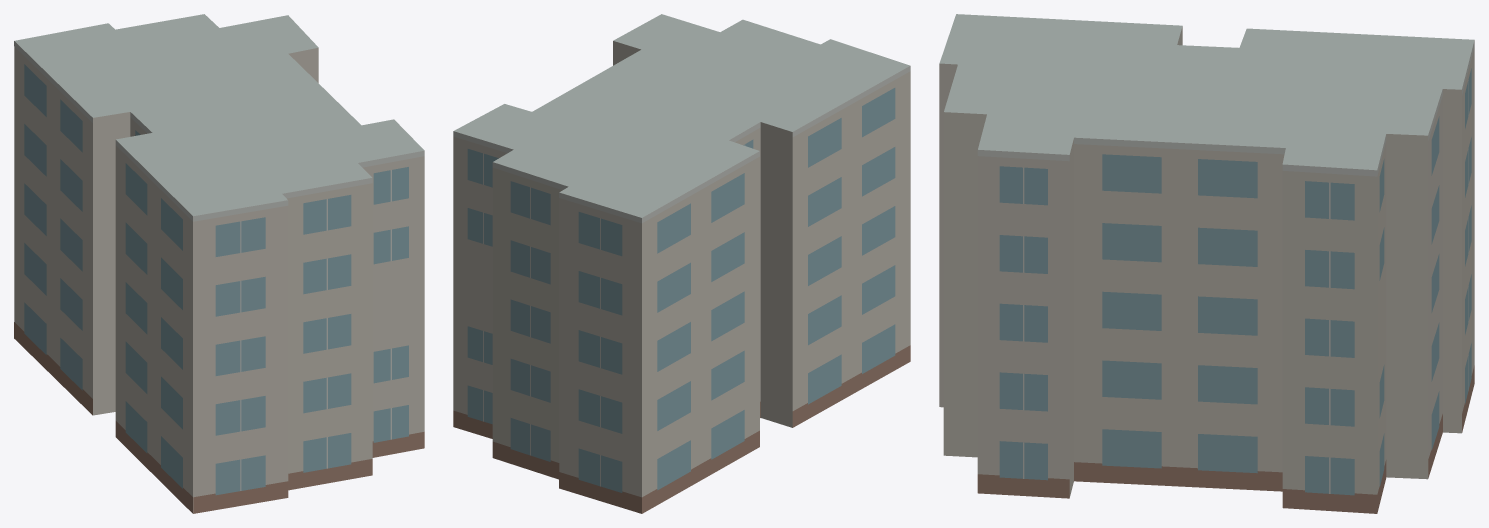
The model's file is survey-upis-32943330.glb.
3 views of the same model, side by side, from view 1: azimuth 30°, elevation 25°; view 2: azimuth 150°, elevation 25°; view 3: azimuth 270°, elevation 25° (orthographic). The views are drawn at different scales.
Visible parts, largest first — view 1: survey-upis-32943330.tmp; view 2: survey-upis-32943330.tmp; view 3: survey-upis-32943330.tmp.
Part boxes in pixels (box(x1,y1,x2,y2)): survey-upis-32943330.tmp: box(14, 14, 424, 513); survey-upis-32943330.tmp: box(453, 14, 910, 513); survey-upis-32943330.tmp: box(939, 14, 1474, 513).
Size of the model in its own units: 12.94 by 13.25 by 18.71.
